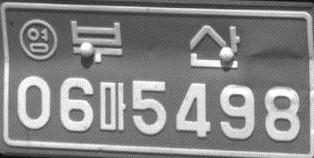0: (16, 74, 51, 130)
4: (175, 83, 211, 138)
5: (131, 79, 167, 136)
6: (59, 76, 94, 133)
8: (263, 84, 301, 142)
9: (219, 83, 256, 140)
마: (98, 80, 127, 133)
부산_D: (71, 18, 241, 70)
영: (18, 18, 59, 61)
